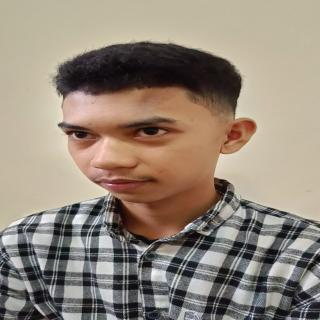Marah: (51, 80, 224, 207)
